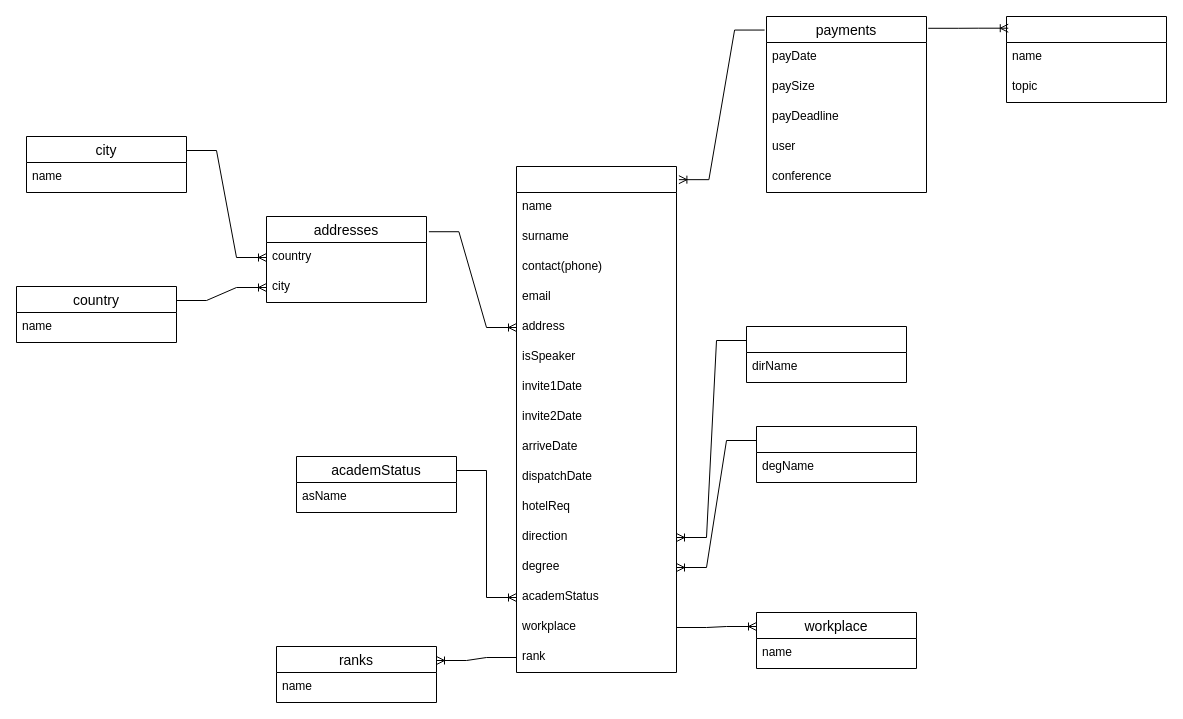
Some shapes in this 1183 by 719 pixel diagram are drawn without their labels. Here are the shapes that lost their labels. From the top down, the box of each, then its label:
(1006, 16, 1166, 102): conferences
(746, 326, 906, 382): directions
(516, 166, 676, 672): users
(756, 426, 916, 482): degrees
